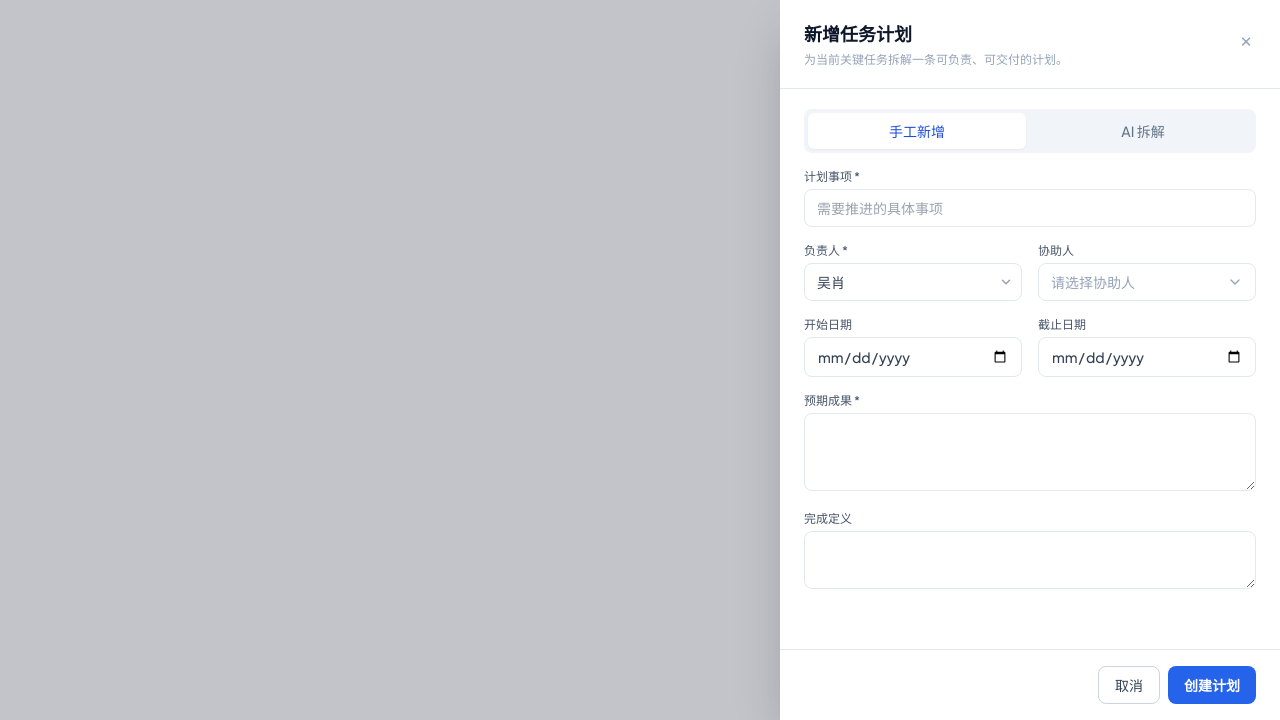
Test case: ExecutionPlanCreateDrawer › uses a compact, de-duplicated collaborator selector
Click the button "请选择协助人": coordinates (1147, 282) [1038,263,1256,301]
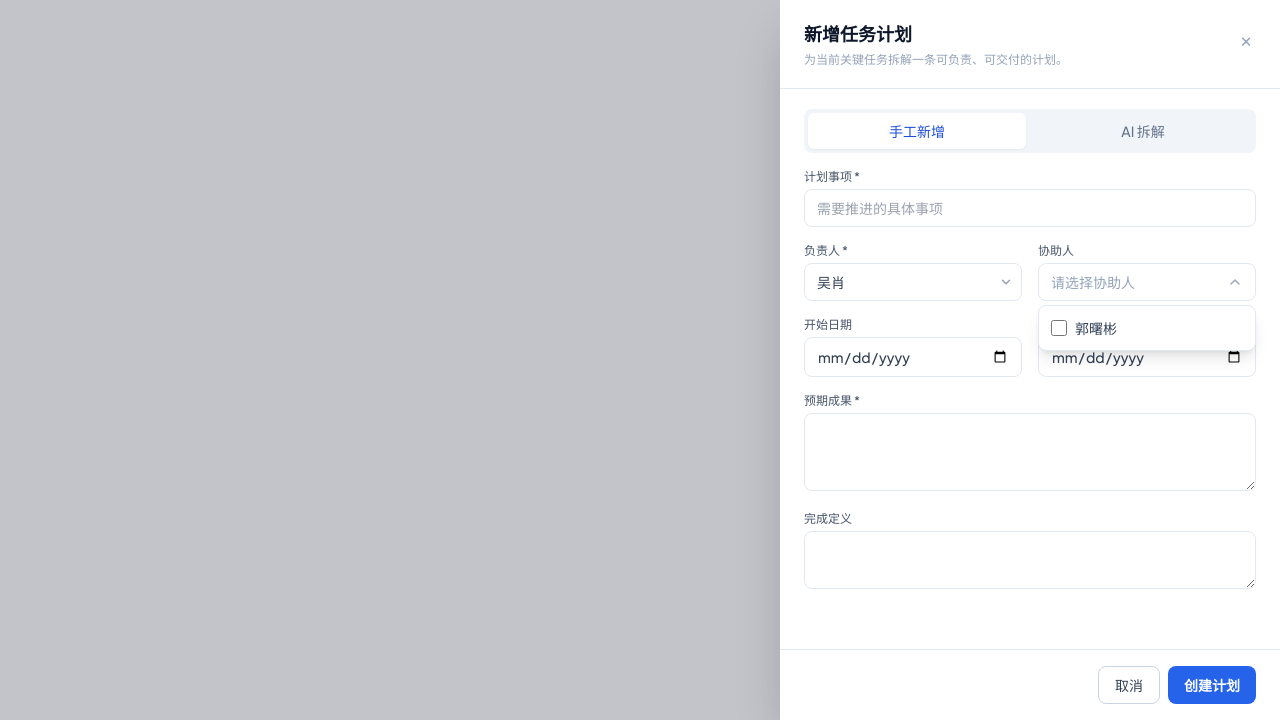
Check: the button "请选择协助人" is expanded, box [1038,263,1256,301]
Check: the number of checkboxes labelled "郭曙彬" is 1, box [1051,320,1067,336]
